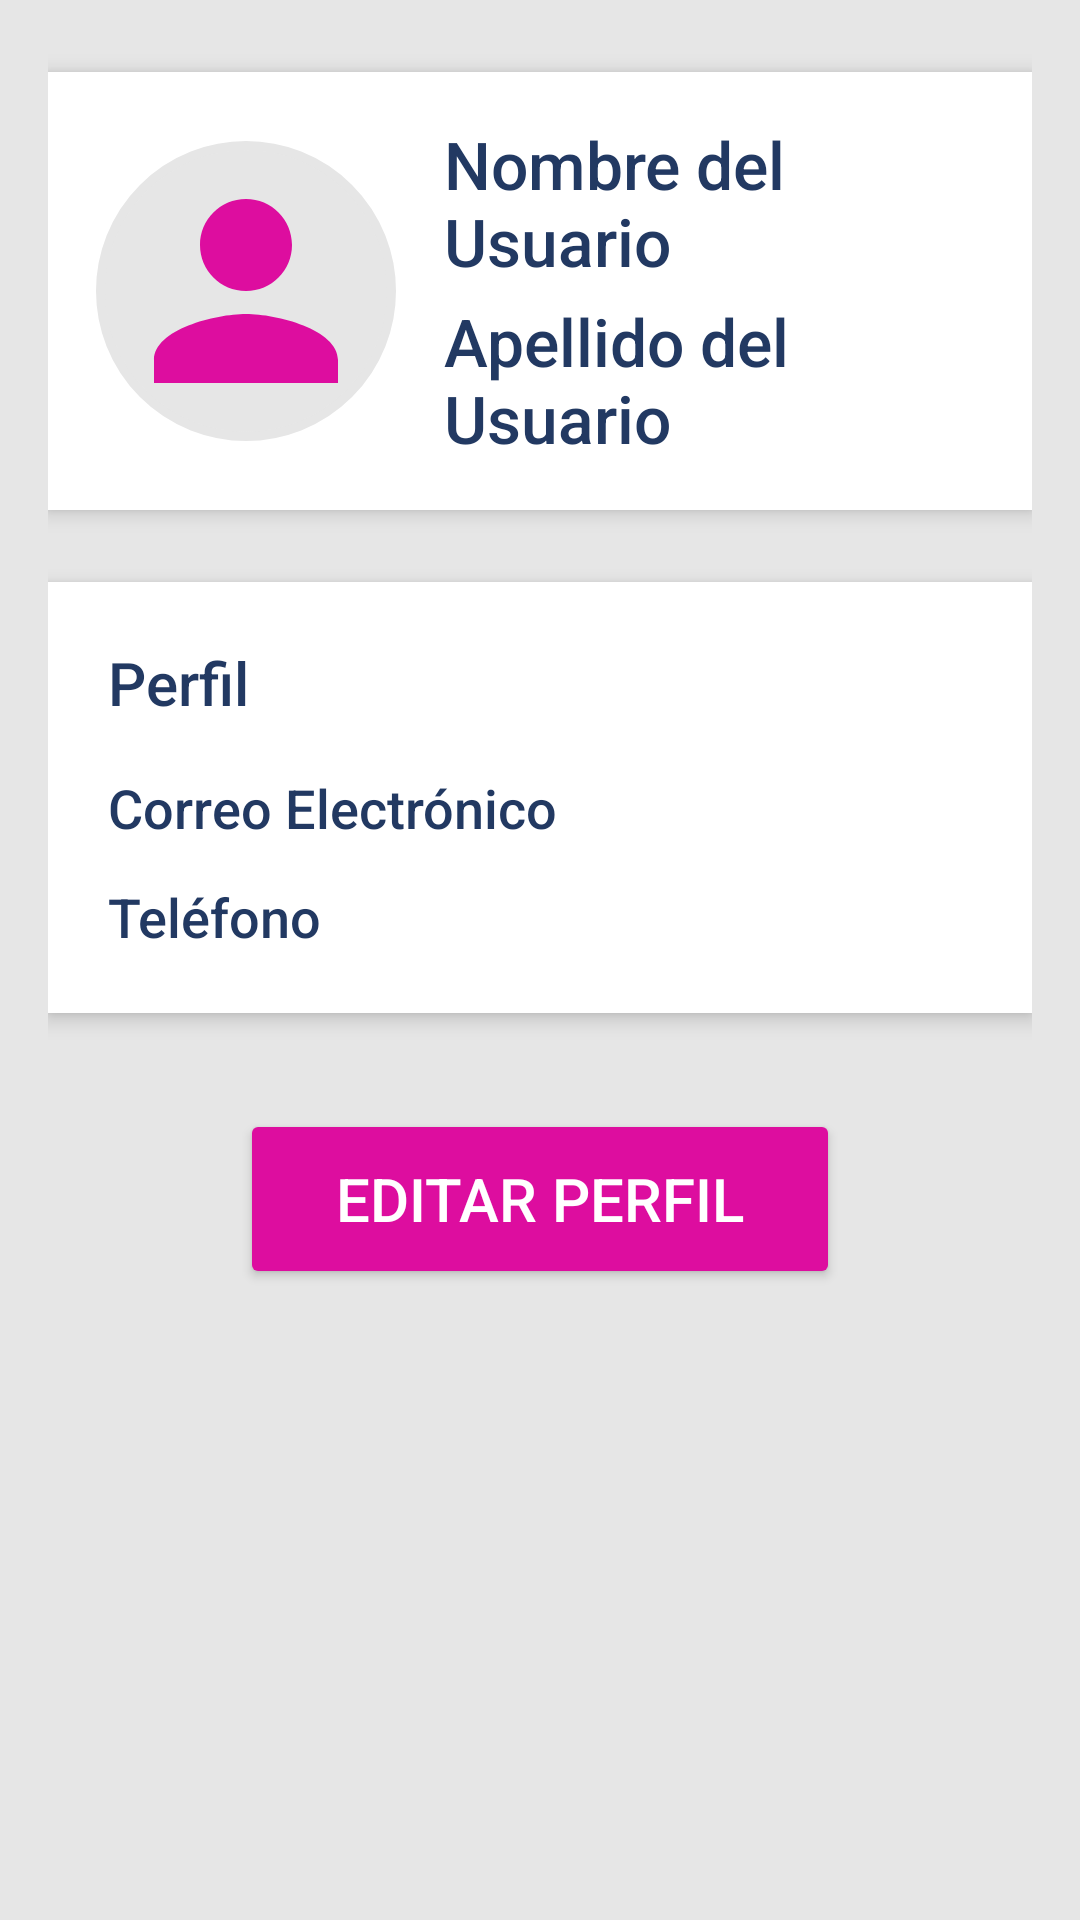

Where to tap for icons on this 1080×1920 app screen, as [x,y]:
user profile: [246,291]
